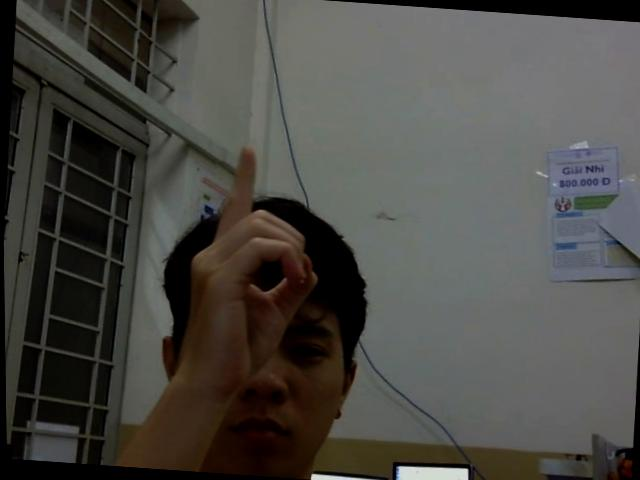D: (175, 139, 324, 396)
